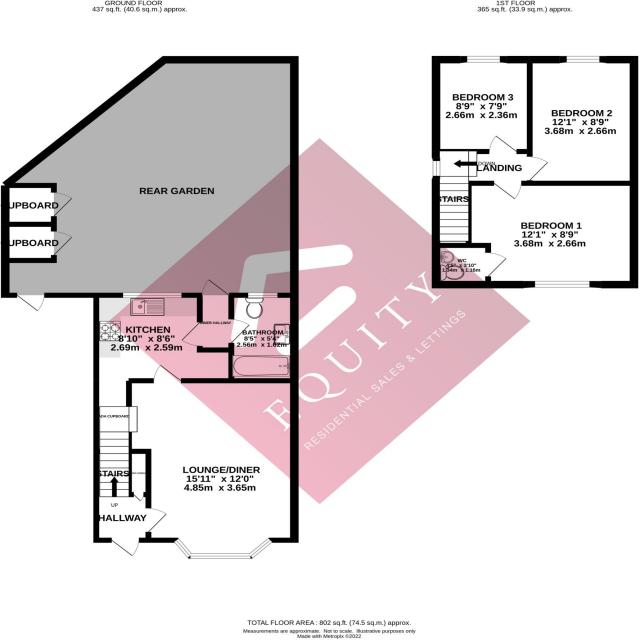DOOR: (485, 252, 508, 277), (145, 507, 168, 532), (489, 135, 517, 155), (527, 156, 548, 181), (16, 293, 45, 311), (111, 538, 140, 556), (229, 319, 250, 343), (182, 321, 202, 346), (202, 278, 229, 296), (154, 364, 181, 382), (494, 182, 521, 199)
ROOM: (126, 364, 299, 559), (468, 180, 639, 289), (526, 56, 639, 186), (432, 56, 533, 155)
WINDOW: (174, 538, 273, 559), (535, 281, 590, 288), (123, 293, 182, 298), (567, 56, 600, 63), (467, 56, 500, 63), (248, 293, 278, 298), (433, 161, 440, 176)
